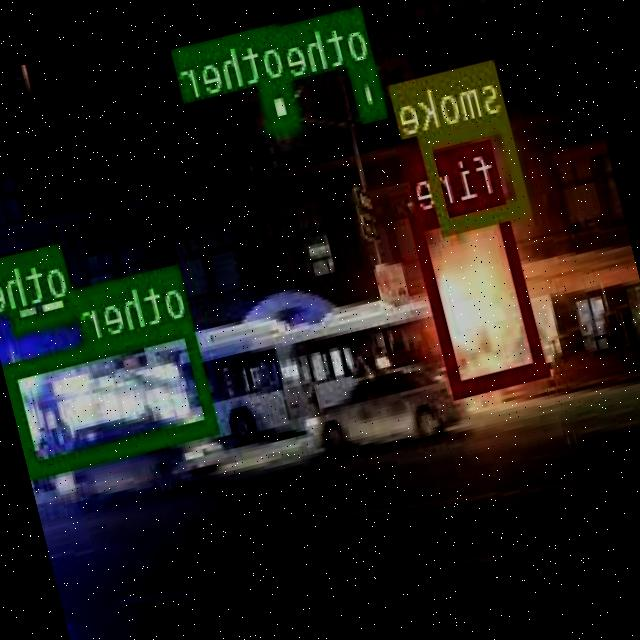fire: (411, 190, 548, 394)
smoke: (420, 111, 533, 233)
